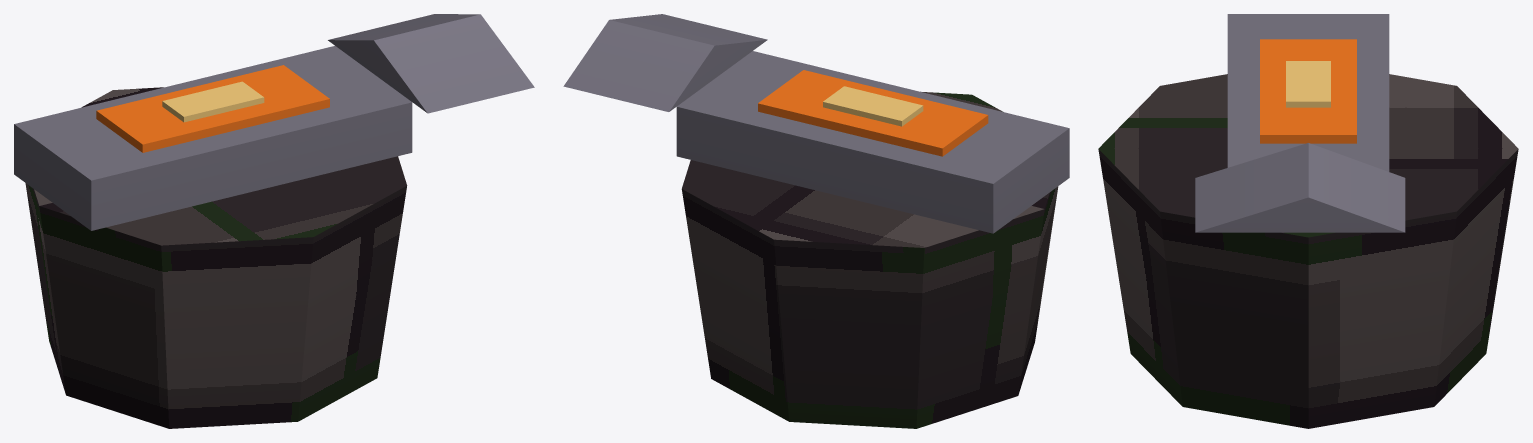
Rendered from emberfall_anvil.glb.
3 renders of one model, left to right at view 1: azimuth 30°, elevation 25°; view 2: azimuth 150°, elevation 25°; view 3: azimuth 270°, elevation 25°, orthographic. The views are drawn at different scales.
Parts seen in each view (by area): view 1: emberfall_anvil; view 2: emberfall_anvil; view 3: emberfall_anvil.
Part boxes in pixels (<box>): emberfall_anvil: <box>14,14,534,428</box>; emberfall_anvil: <box>563,14,1069,428</box>; emberfall_anvil: <box>1098,14,1518,428</box>.
Size of the model in its own units: 1.65 by 1 by 1.3.
3 materials, 1 textured.
